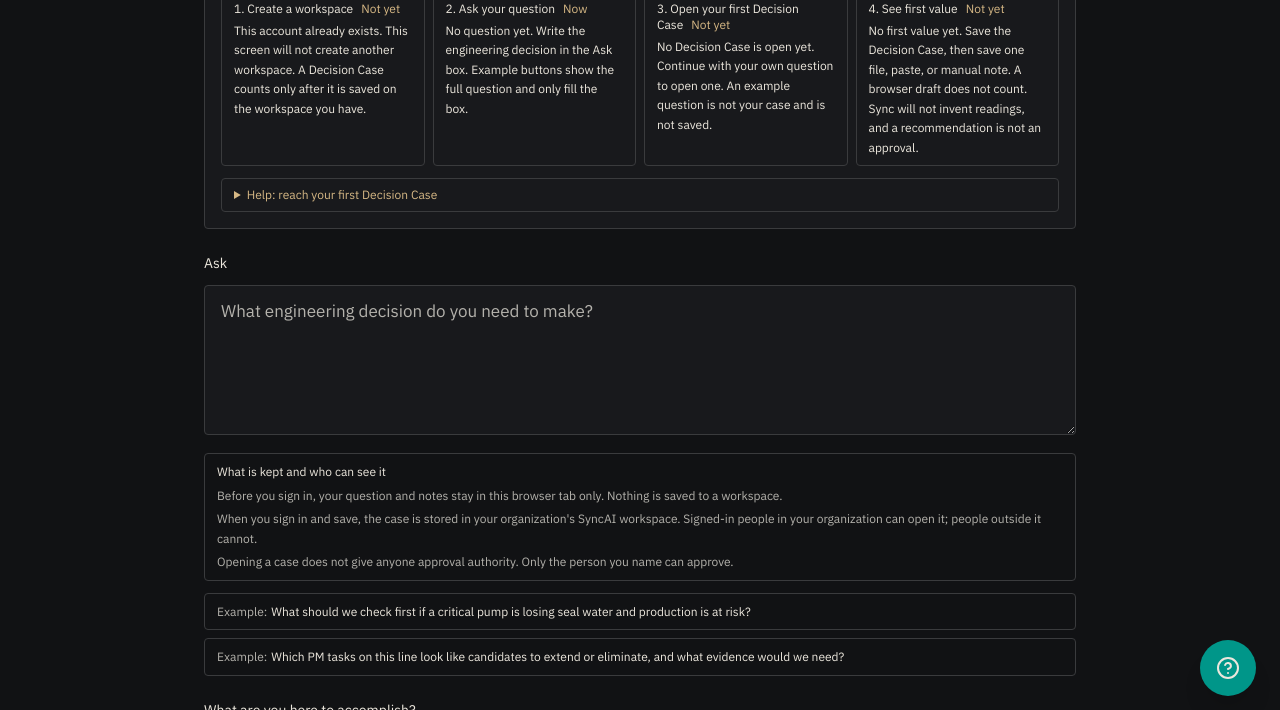
P0.2 Decision Case spine on /get-started › keeps current evidence and identity across back, continue and refresh without another workspace
Later steps or results of the test are not shown.
(page scrolled)
In the text box with test id "inverted-ask": coordinates (640, 360) [204, 285, 1076, 435], type "Should we hold or change the current inspection interval on this rotating asset?"
(page scrolled)
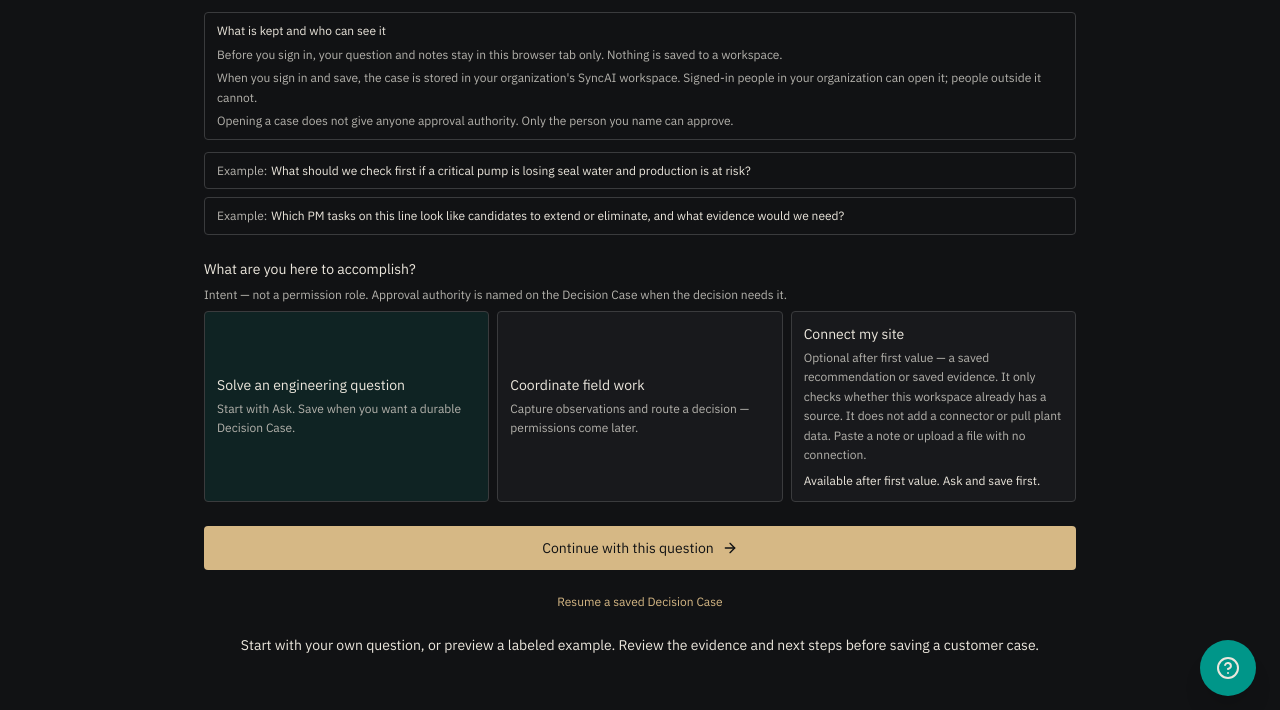
Click the button with test id "inverted-continue": coordinates (640, 548) [204, 526, 1076, 570]
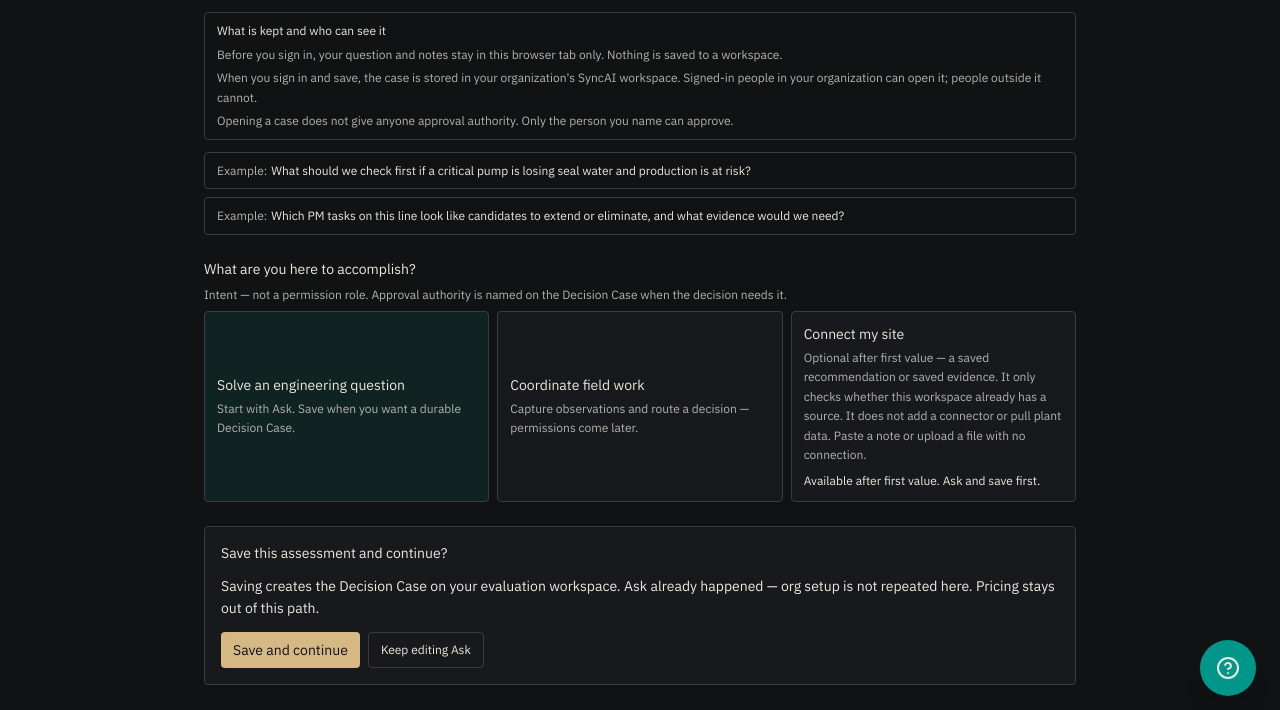
Click the button with test id "inverted-save-continue": coordinates (290, 650) [221, 632, 360, 668]
(page scrolled)
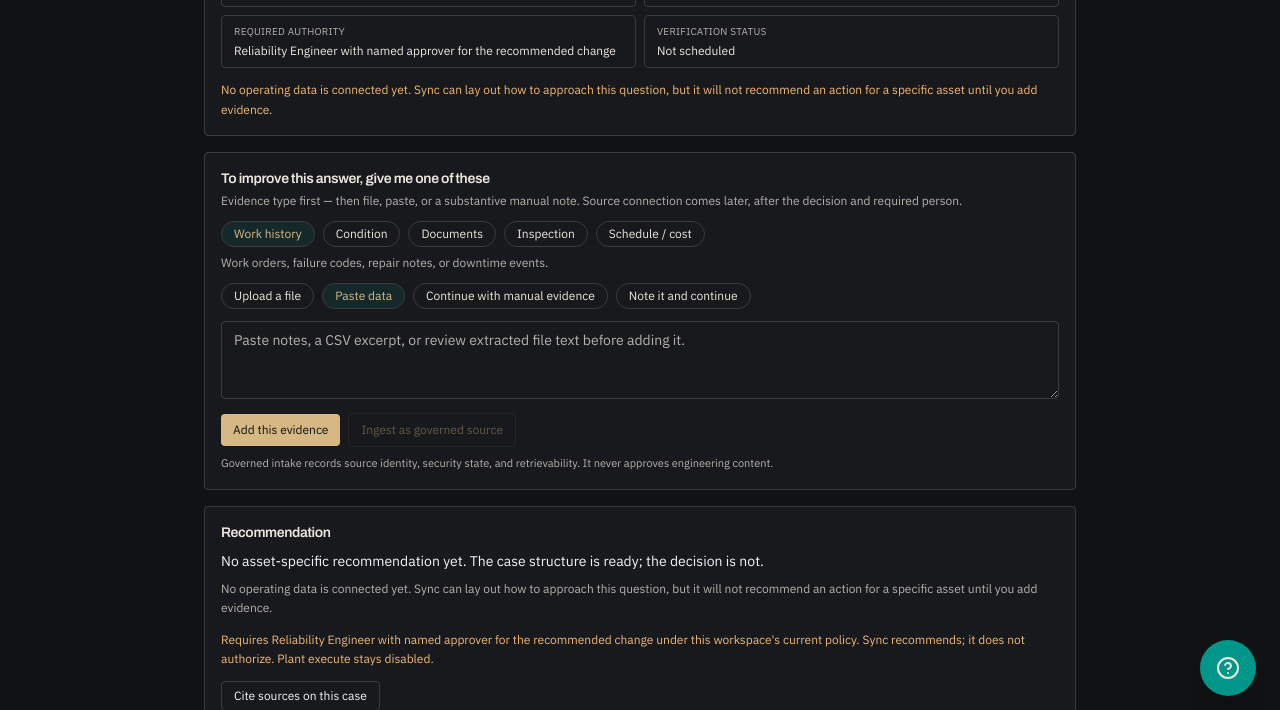
Replace the text in the text box with test id "spine-evidence-body" with "Synthetic retained inspection evidence": coordinates (640, 360) [221, 321, 1059, 399]
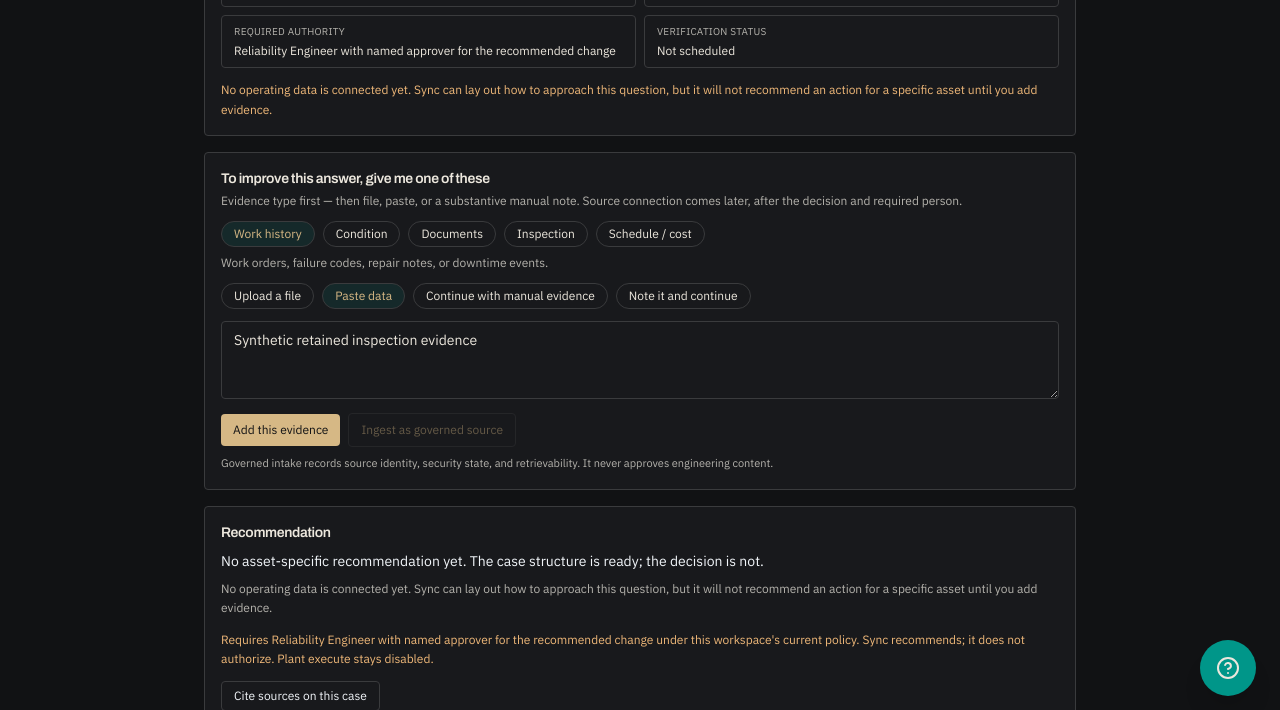
Click the button with test id "spine-add-evidence": coordinates (281, 430) [221, 414, 340, 446]
(page scrolled)
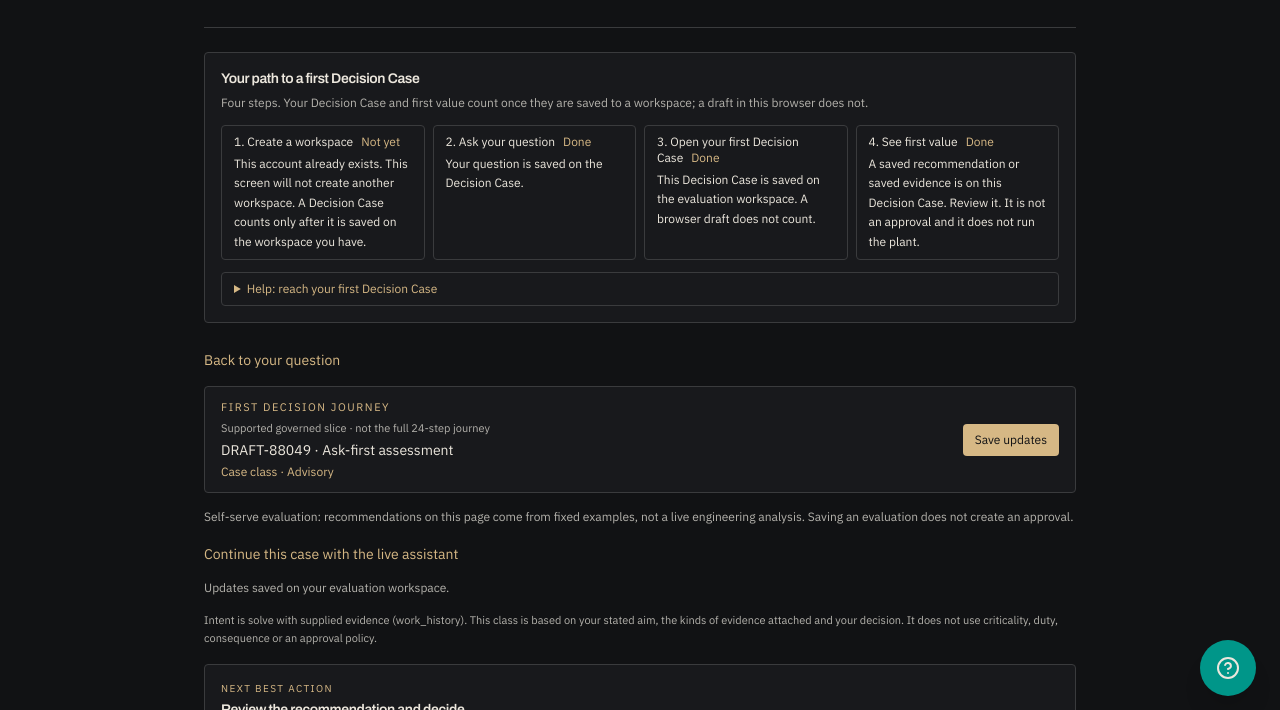
Now the message with test id "spine-save-notice" shows "Updates saved on your evaluation workspace", box [204, 580, 449, 595]
